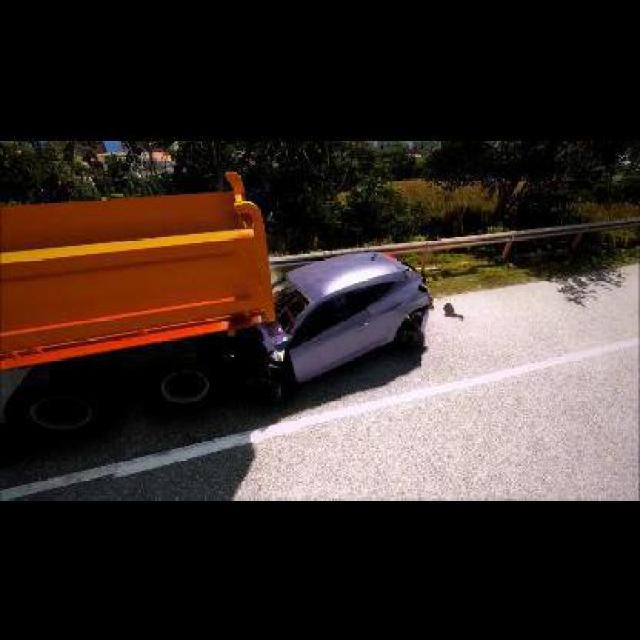accident: (1, 163, 436, 425)
